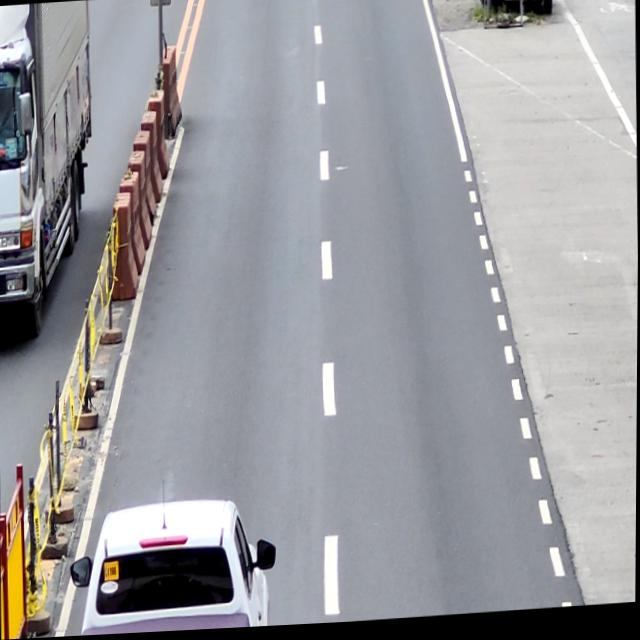Car: (70, 495, 277, 637)
